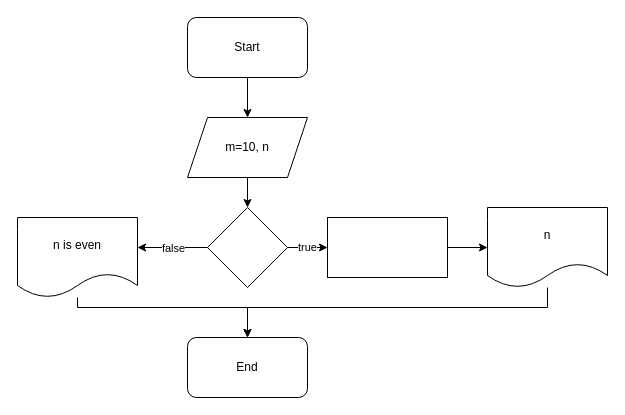
Image size: 625x415. Some labels were removed from this diagram. The box of each missing label's shape, as (x1, y1, x2, y2) in pixels:
n % 2 ==1: (206, 206, 288, 288)
n+=m: (326, 216, 448, 278)
